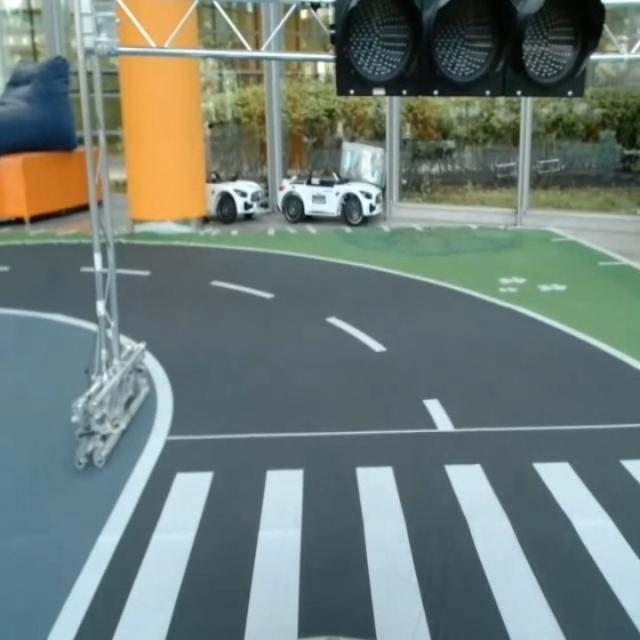traffic-light: (329, 0, 605, 97)
